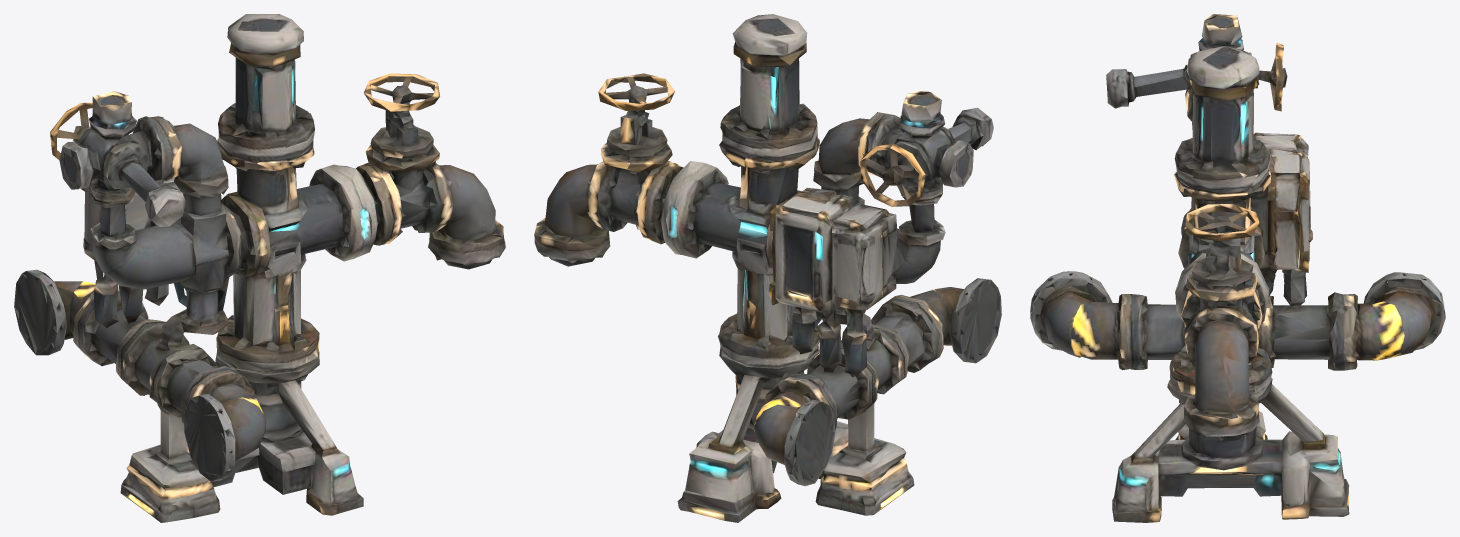
File: pipe_cluster.glb
3 views of the same model, side by side, from view 1: azimuth 30°, elevation 25°; view 2: azimuth 150°, elevation 25°; view 3: azimuth 270°, elevation 25° (orthographic). The views are drawn at different scales.
Visible parts, largest first — view 1: pipe_cluster; view 2: pipe_cluster; view 3: pipe_cluster.
Boxes of the visible parts, box(x1,y1,x2,y2) form: pipe_cluster: box(14, 14, 505, 522); pipe_cluster: box(534, 14, 1001, 522); pipe_cluster: box(1030, 14, 1445, 522).
Bounding box in the file's own units: 7 × 6.99 × 5.94.
1 material, 1 textured.
